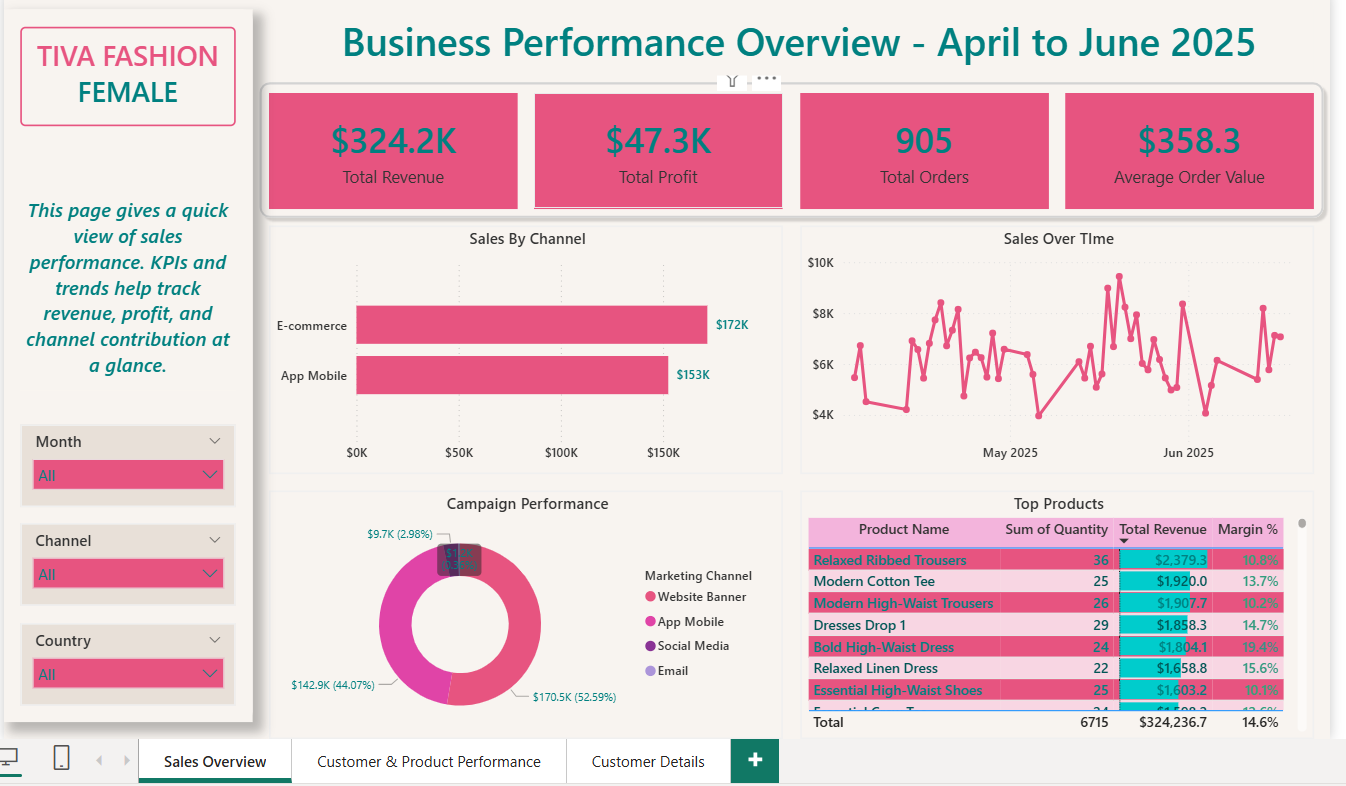

What the dashboard file says about the page in this screenshot:
{"tool":"powerbi","page":{"name":"Sales Overview","canvas":[1280,720],"ordinal":0},"visuals":[{"type":"shape","box":[240,80,1040,144],"z":0},{"type":"card","fields":{"Values":["Sales Items.Total Revenue"]},"box":[256,96,240,112],"z":1000},{"type":"card","fields":{"Values":["Sales Items.Total Profit"]},"box":[512,96,240,112],"z":2000},{"type":"card","fields":{"Values":["Sales.Total Orders"]},"box":[768,96,240,112],"z":3000},{"type":"card","fields":{"Values":["Sales.Average Order Value"]},"box":[1024,96,240,112],"z":4000},{"type":"textbox","box":[272,16,992,64],"z":5000},{"type":"clusteredBarChart","title":"Sales By Channel","fields":{"Category":["Sales.Channel"],"Y":["Sales Items.Total Revenue"]},"box":[256,224,496,240],"z":6000},{"type":"lineChart","title":"Sales Over TIme","fields":{"Category":["Date Table.Date"],"Y":["Sales Items.Total Revenue"]},"box":[768,224,496,240],"z":7000},{"type":"donutChart","title":"Campaign Performance","fields":{"Category":["Sales Items.Marketing Channel"],"Y":["Sales Items.Total Revenue"]},"box":[256,480,496,240],"z":8000},{"type":"tableEx","title":"Top Products","fields":{"Values":["Products.Product Name","Sum(Sales Items.Quantity)","Sales Items.Total Revenue","Sales Items.Margin %"]},"box":[768,480,496,240],"z":9000},{"type":"shape","box":[0,16,240,688],"z":10000},{"type":"textbox","box":[16,32,208,96],"z":11000},{"type":"slicer","fields":{"Values":["Date Table.Month Name"]},"box":[16,416,208,80],"z":12000},{"type":"slicer","fields":{"Values":["Channels.Channel"]},"box":[16,512,208,80],"z":13000},{"type":"slicer","fields":{"Values":["Sales.Country"]},"box":[16,608,208,80],"z":14000},{"type":"textbox","box":[16,192,208,192],"z":15000}]}

Visuals, with their boxes on the page's 1280x720 design canvas (x1, y1, x2, y2). These are canvas units, not pixel positions in the 1346x786 screenshot, which may show the page scaled, cropped or inside an application window:
shape: (240, 80, 1280, 224)
card - Sales Items.Total Revenue: (256, 96, 496, 208)
card - Sales Items.Total Profit: (512, 96, 752, 208)
card - Sales.Total Orders: (768, 96, 1008, 208)
card - Sales.Average Order Value: (1024, 96, 1264, 208)
textbox: (272, 16, 1264, 80)
"Sales By Channel" clusteredBarChart: (256, 224, 752, 464)
"Sales Over TIme" lineChart: (768, 224, 1264, 464)
"Campaign Performance" donutChart: (256, 480, 752, 720)
"Top Products" tableEx: (768, 480, 1264, 720)
shape: (0, 16, 240, 704)
textbox: (16, 32, 224, 128)
slicer - Date Table.Month Name: (16, 416, 224, 496)
slicer - Channels.Channel: (16, 512, 224, 592)
slicer - Sales.Country: (16, 608, 224, 688)
textbox: (16, 192, 224, 384)
